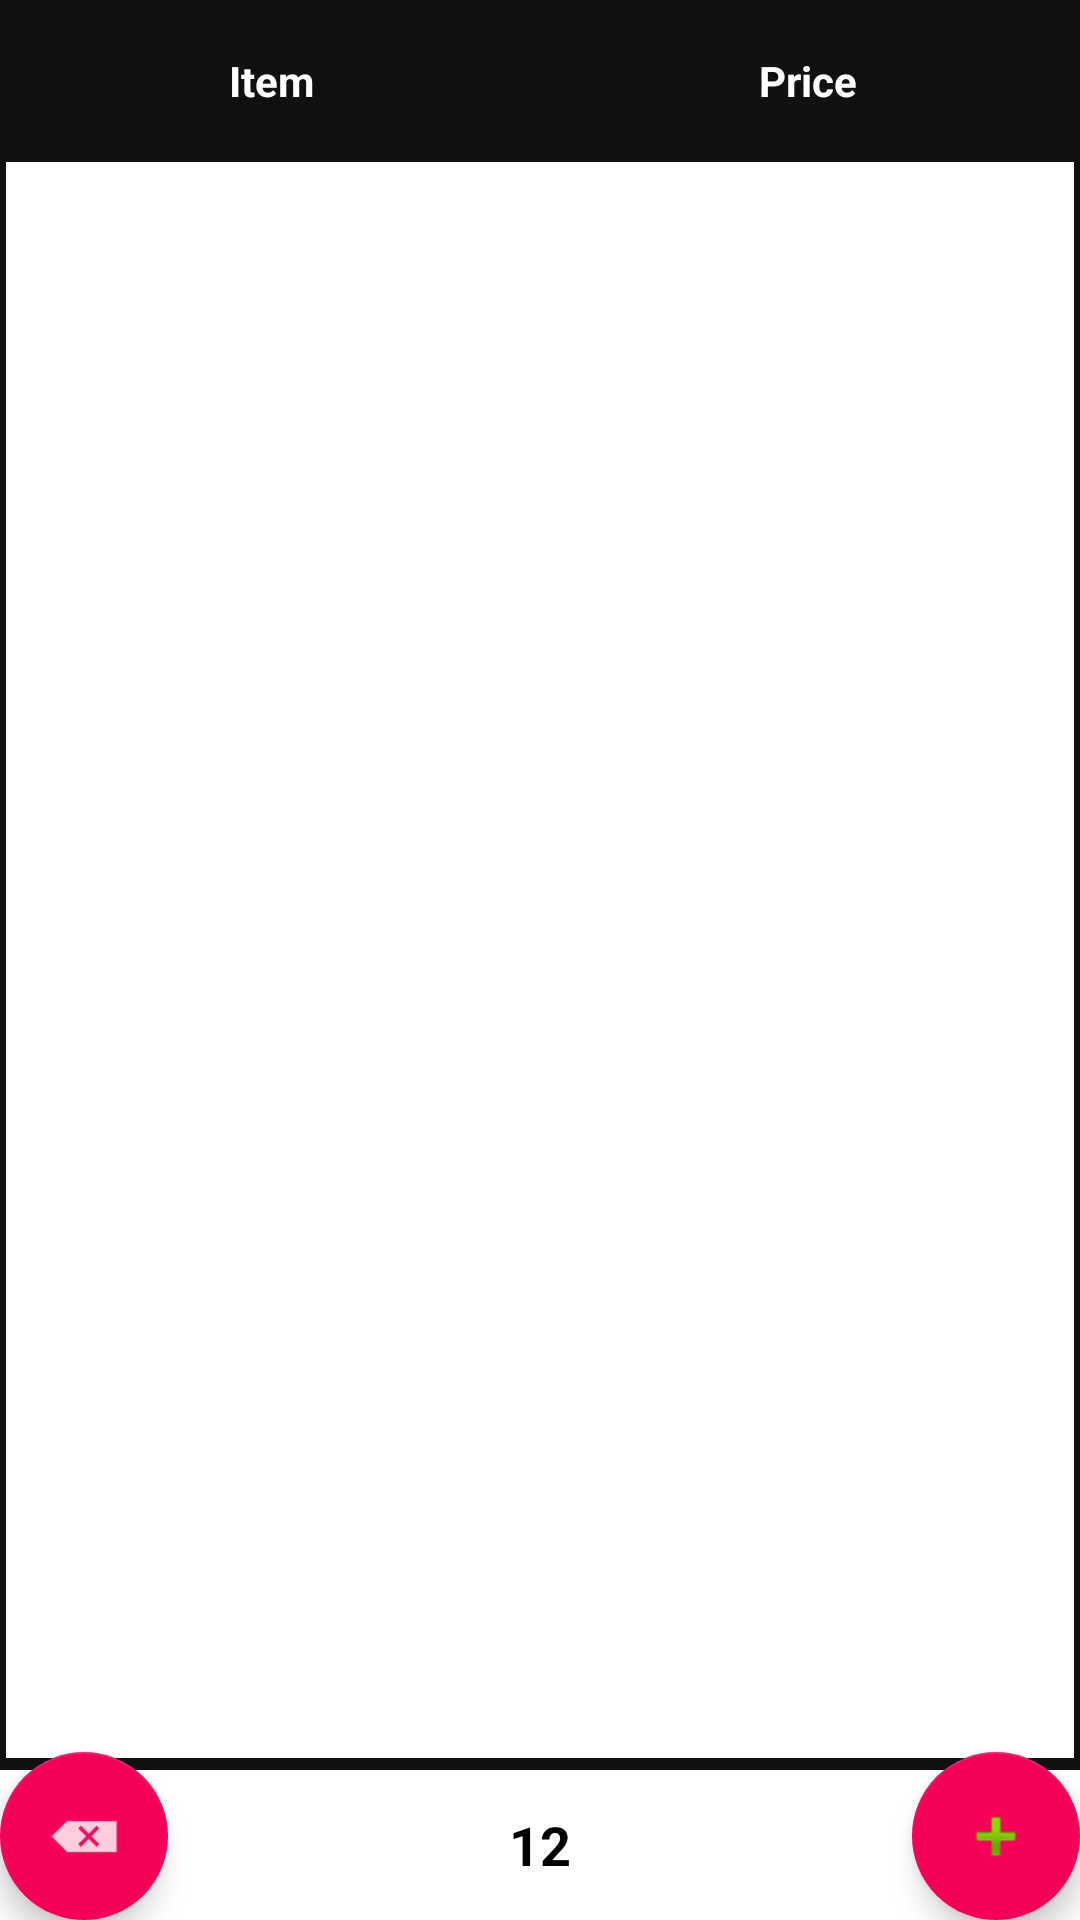

Icon bounding boxes for this 1080w x 1920h phone screenshot, format (x1, y1, x2, y2):
add: (912, 1752, 1080, 1920)
delete: (0, 1752, 168, 1920)
